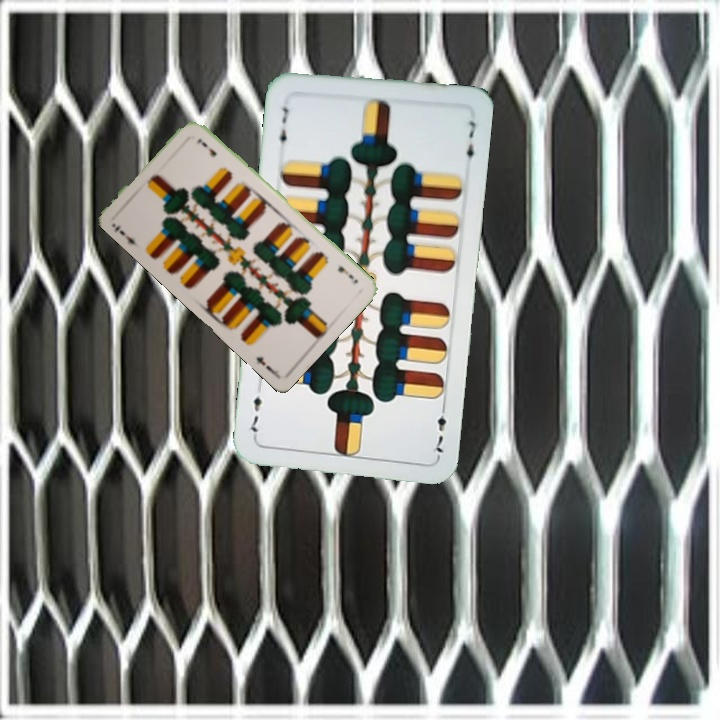E7: (428, 400, 449, 459), (110, 221, 142, 249), (275, 101, 292, 152), (333, 262, 361, 287)
